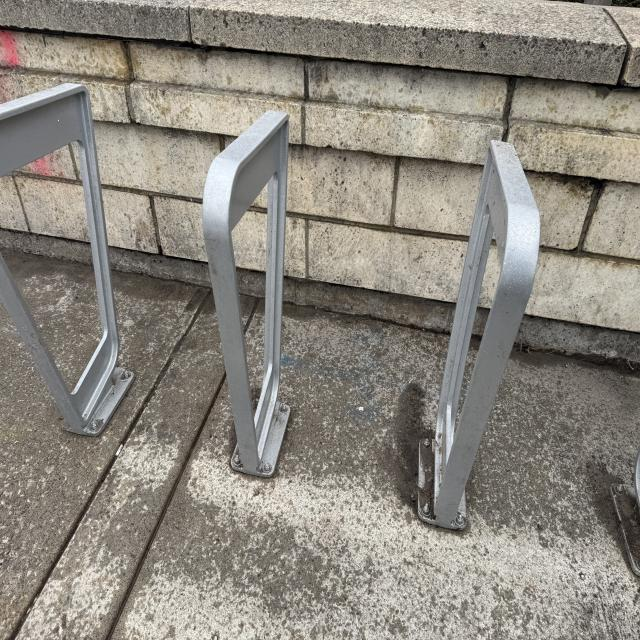Bicycle Rack: (424, 144, 544, 538), (0, 84, 133, 433), (206, 110, 293, 478)
